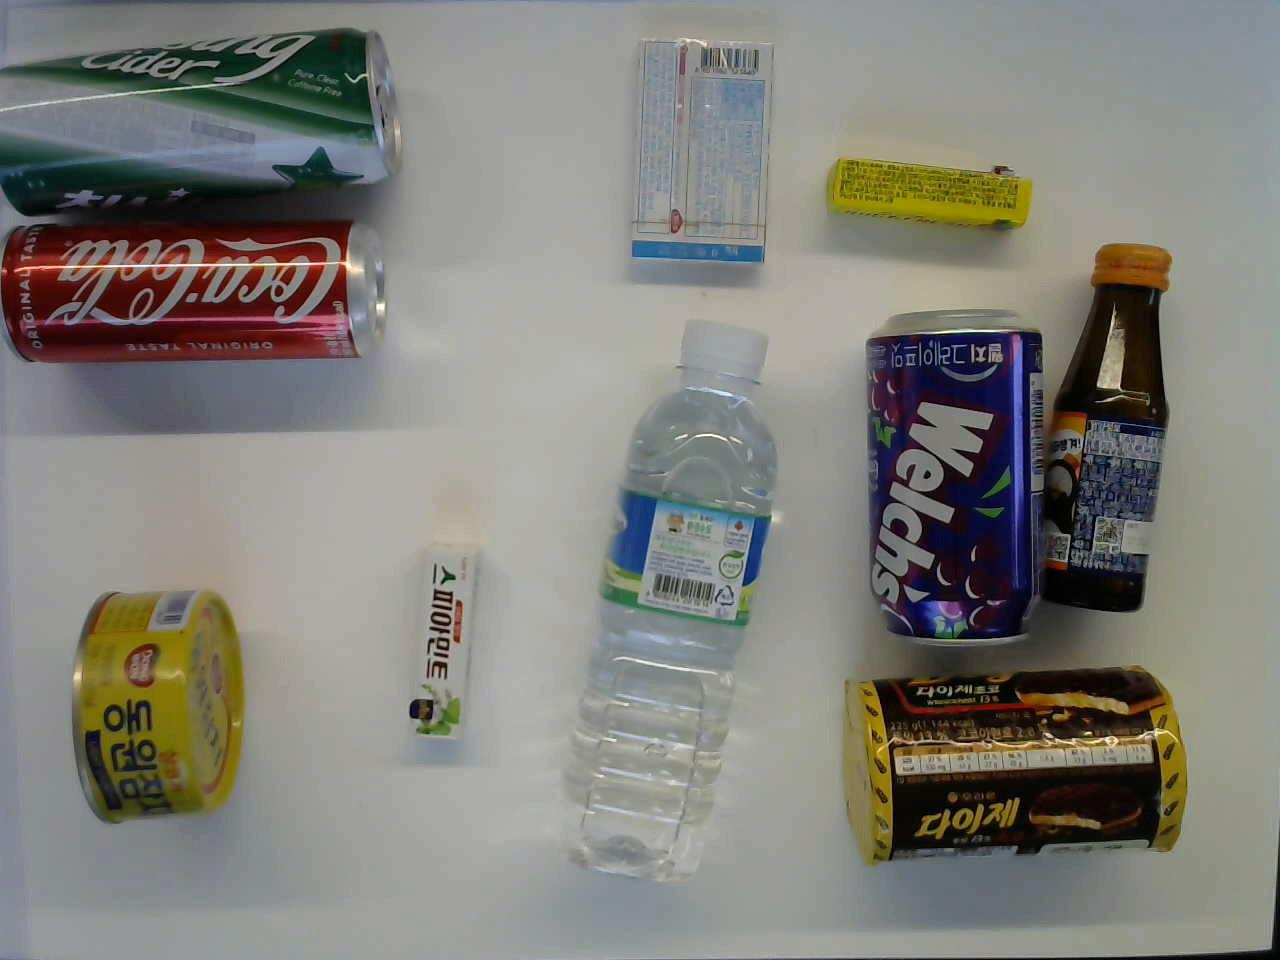ID_gum: (622, 36, 771, 267)
cidar: (0, 25, 407, 217)
coke: (0, 221, 397, 370)
diget_choco: (835, 661, 1193, 871)
juicyfresh: (823, 155, 1036, 228)
samdasu: (557, 317, 782, 917)
spearmint: (392, 542, 485, 756)
tuna: (65, 590, 251, 847)
vita500: (1034, 238, 1188, 615)
welchs: (856, 306, 1042, 646)
